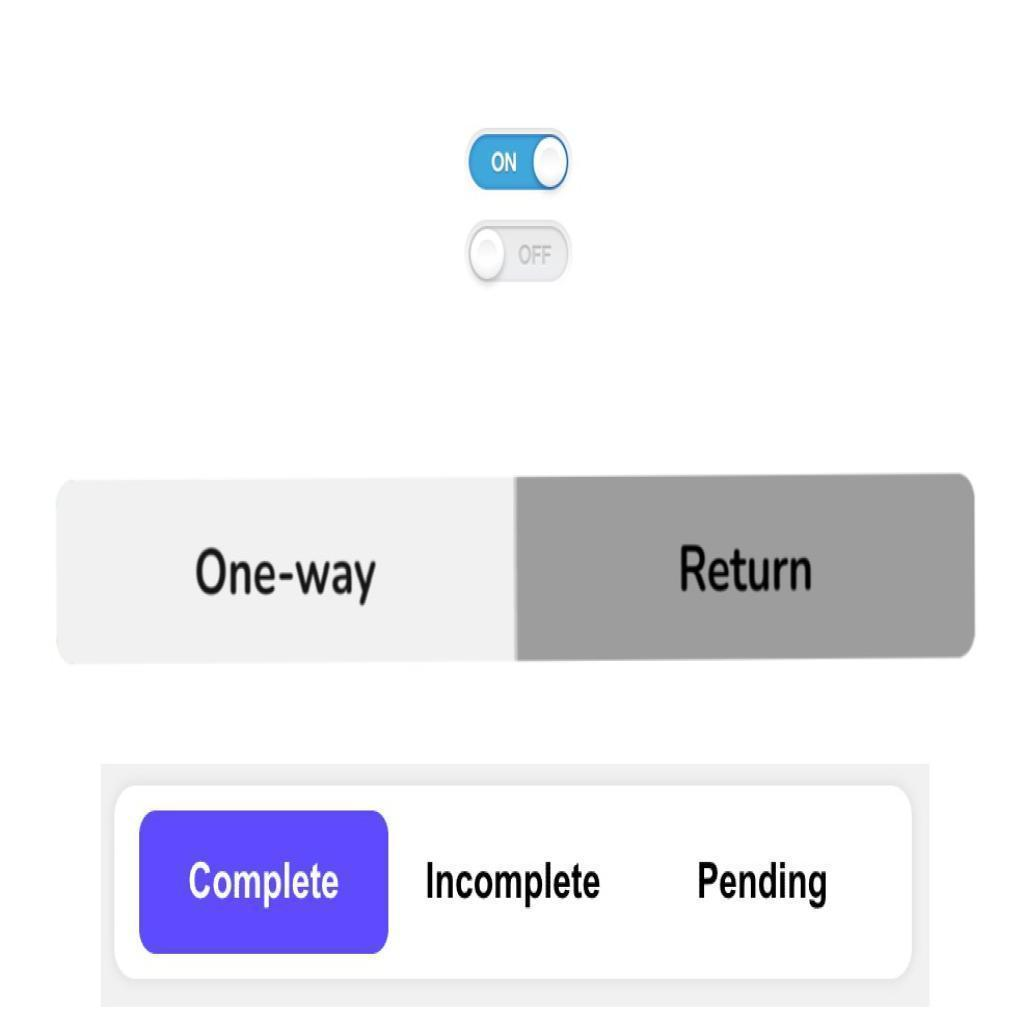button: (516, 476, 976, 660), (56, 481, 515, 659), (139, 810, 388, 954)
label: (420, 853, 607, 915), (693, 856, 830, 916)
switch: (468, 223, 572, 284), (468, 133, 571, 193)
